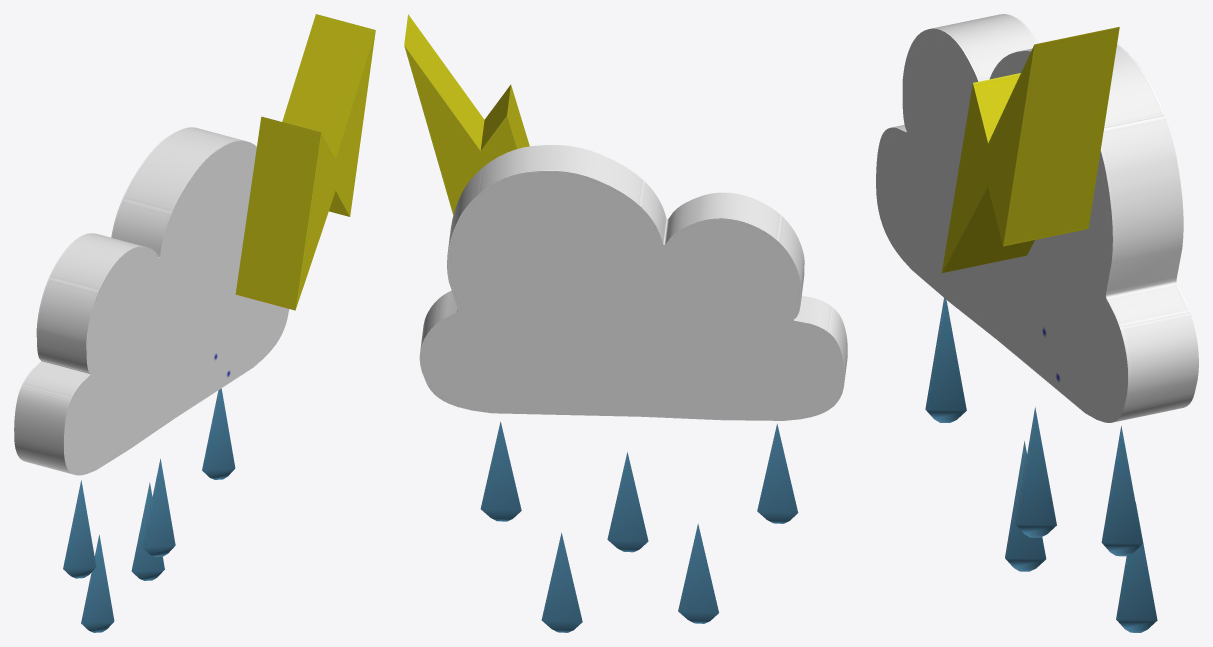
The model's file is 3d_tempestade.glb.
The picture shows the model from 3 angles, left to right: view 1: azimuth 30°, elevation 25°; view 2: azimuth 150°, elevation 25°; view 3: azimuth 270°, elevation 25°; orthographic projection. The views are drawn at different scales.
Visible parts, largest first — view 1: node_id8; view 2: node_id8; view 3: node_id8.
Boxes of the visible parts, x1,y1,x2,y2 form: node_id8: [14, 14, 375, 632]; node_id8: [404, 14, 847, 632]; node_id8: [876, 14, 1198, 632].
Size of the model in its own units: 0.3983 by 0.5125 by 0.211.
1 material, 1 textured.
